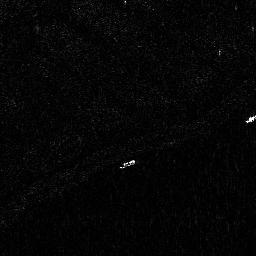ship: (119, 158, 136, 170)
